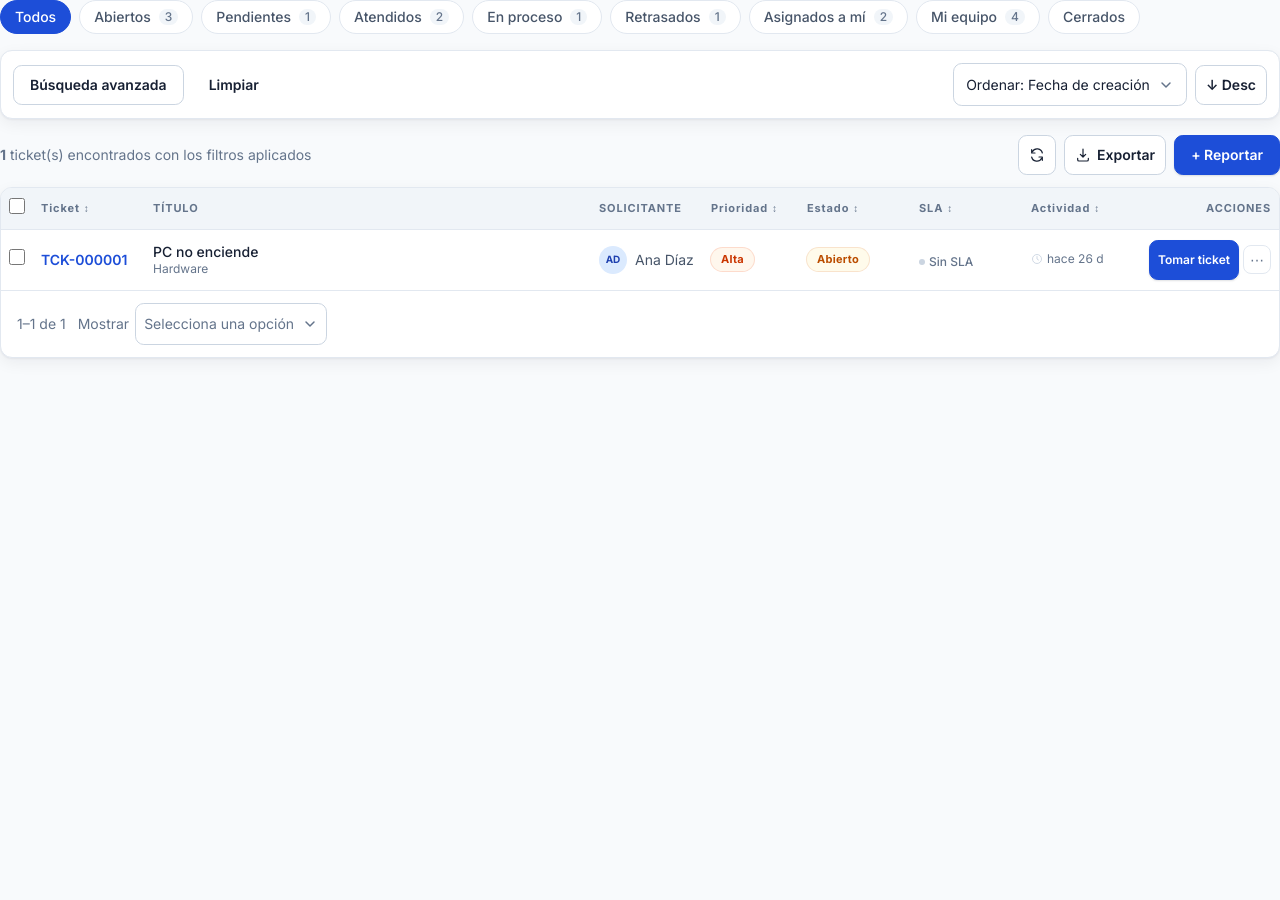
it: Tickets › aplica filtros avanzados a la consulta
The width and height of the screenshot is (1280, 900).
Expected: the link "TCK-000001" is shown, [41,250,127,269]
Click the button "Búsqueda avanzada": click(98, 84) [13,64,184,104]
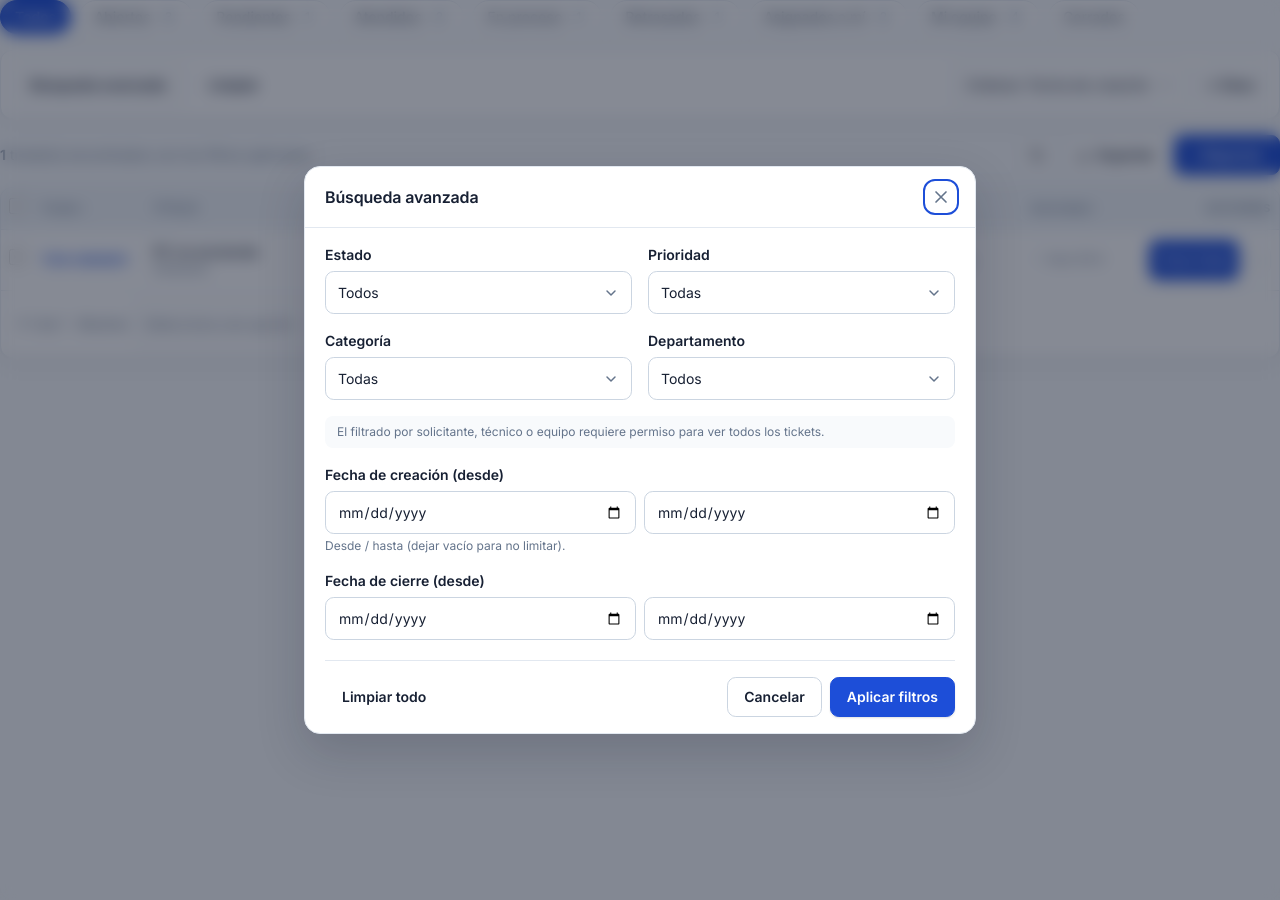
Click the 1st dropdown labelled "Todos": click(358, 292) [325,271,632,314]
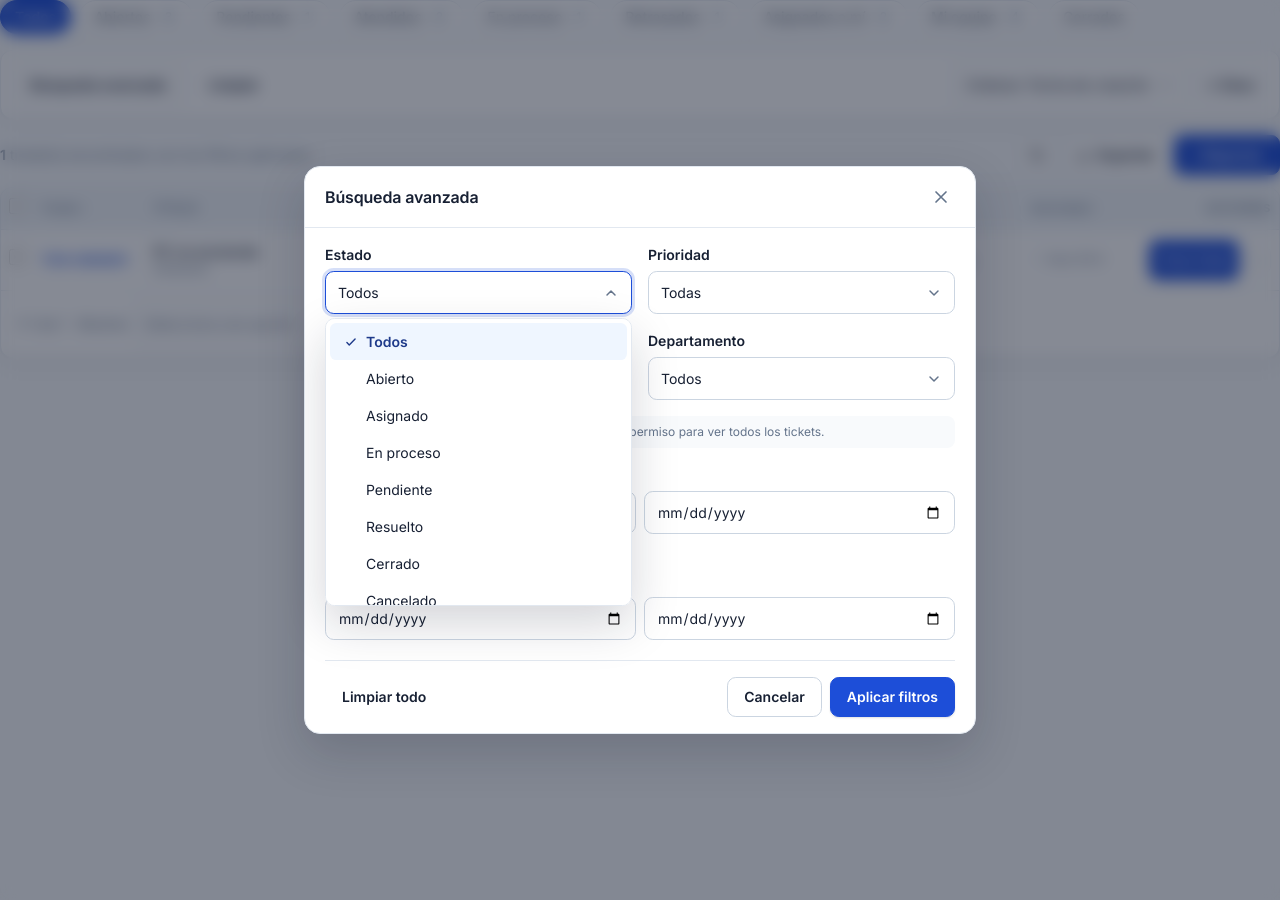
Click the option "En proceso": click(403, 452) [366,444,441,461]
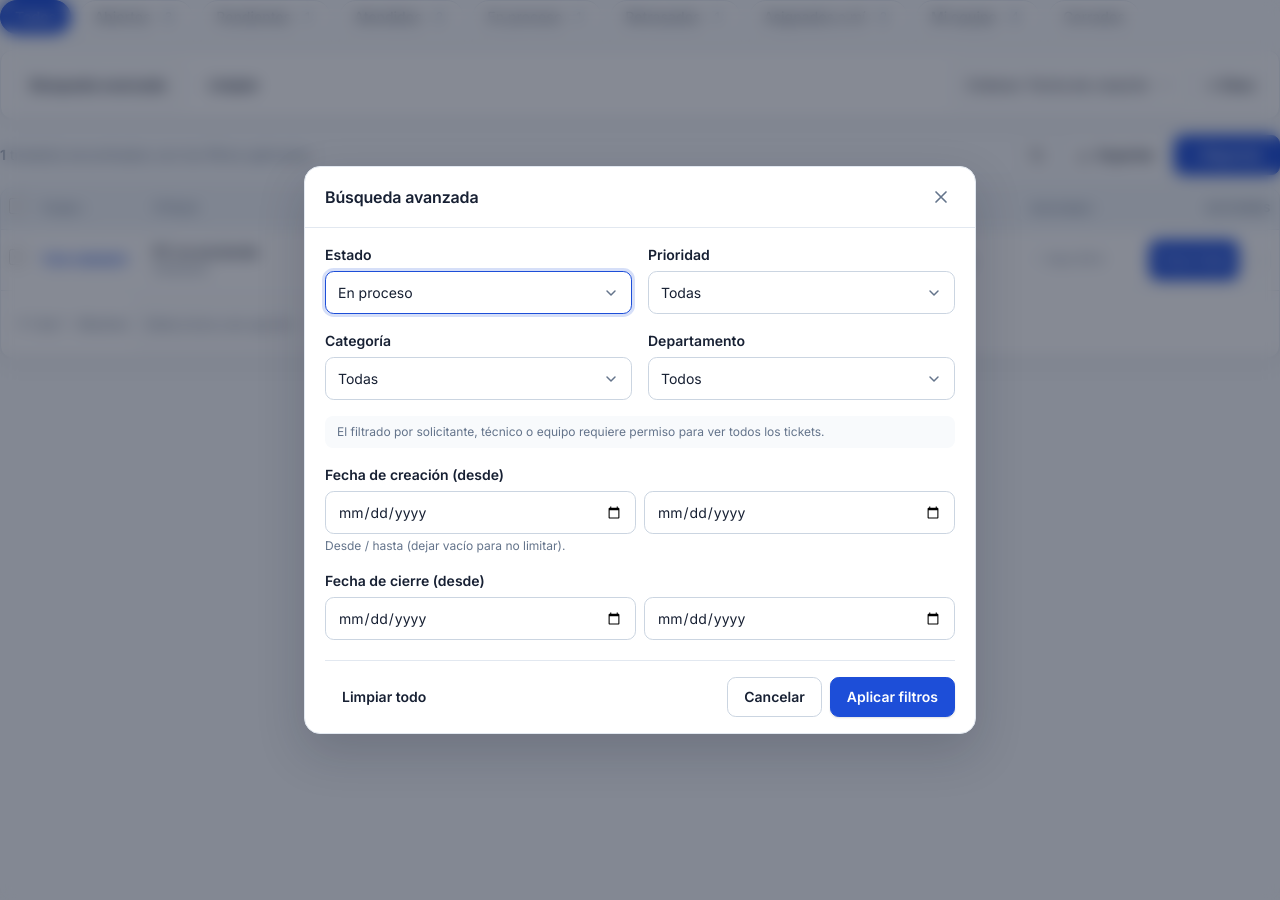
Click the button "Aplicar filtros": click(892, 697) [830,677,955,717]
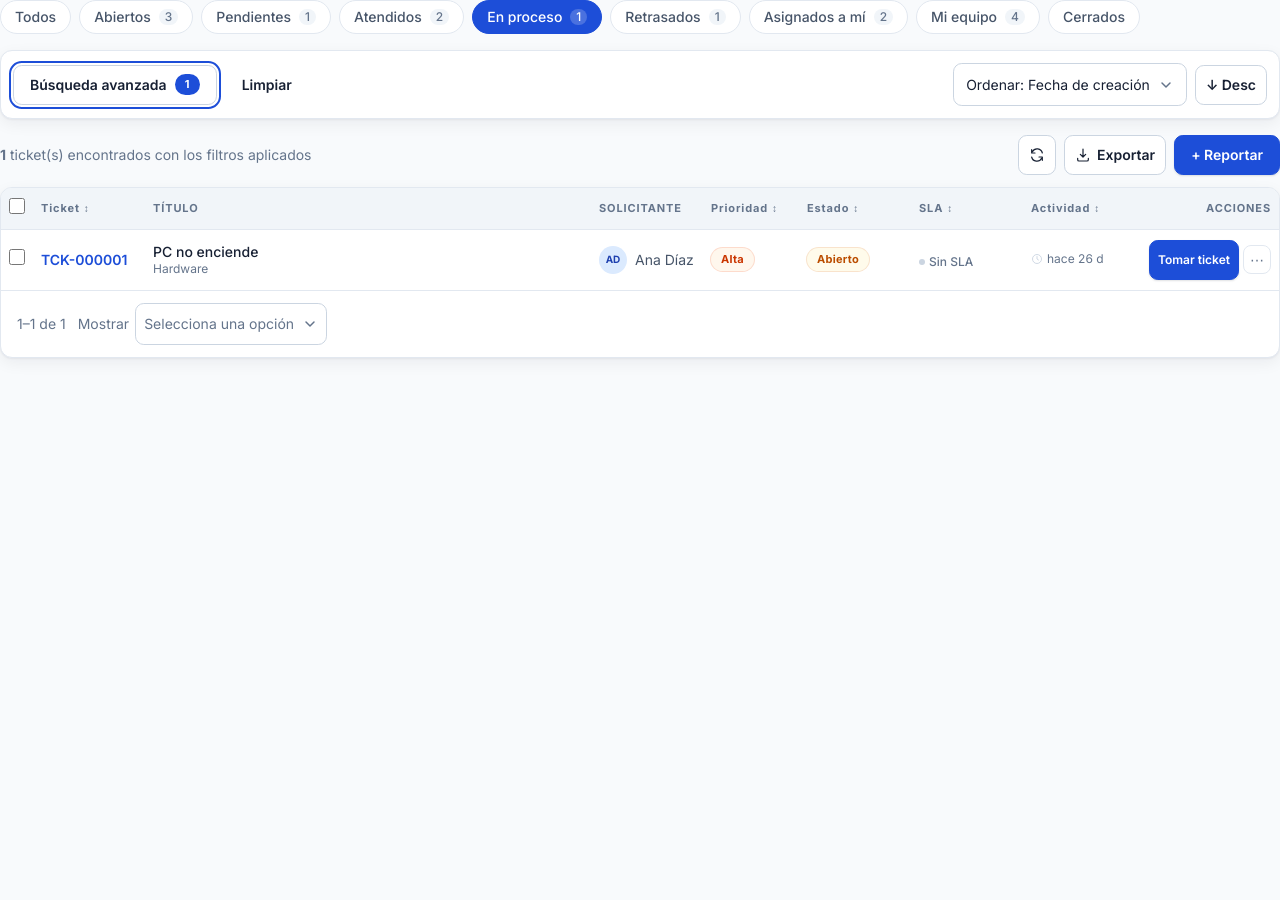
Now the 4th text "1" is shown, box [175,74,200,95]
